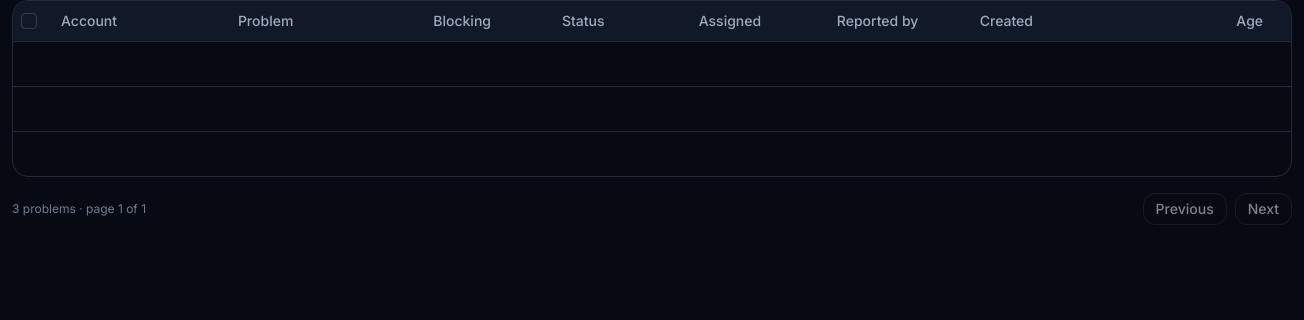
selection › 4. Clear selection empties it
Click the checkbox named "Select all problems on this page" at (29, 21), box [21,13,37,29]
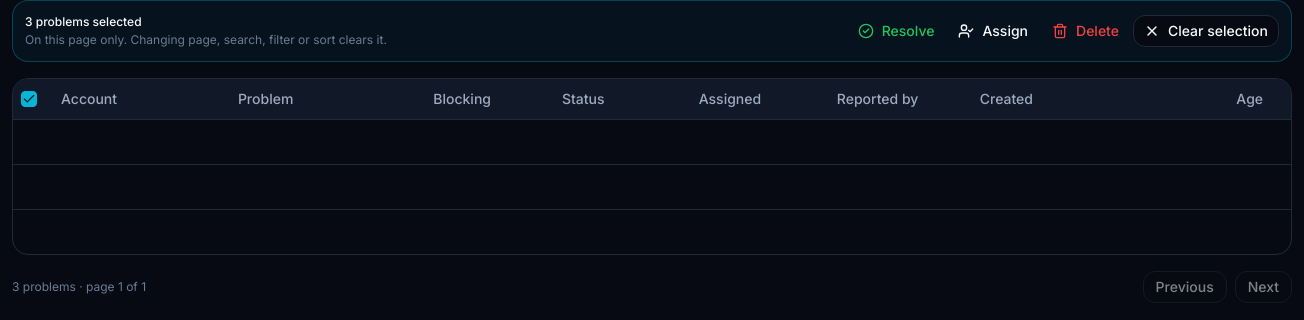
Click the button "Clear selection" at (1206, 31), box [1133,15,1279,47]
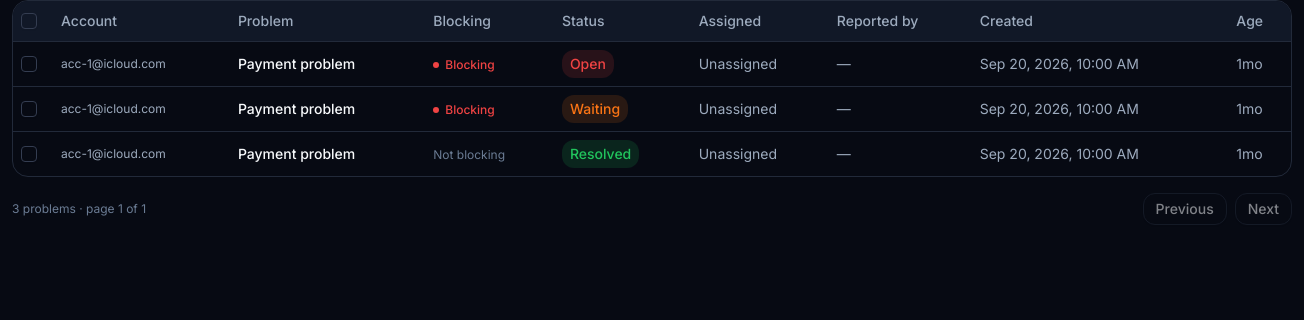
Expected: the text "3 problems selected" is gone
